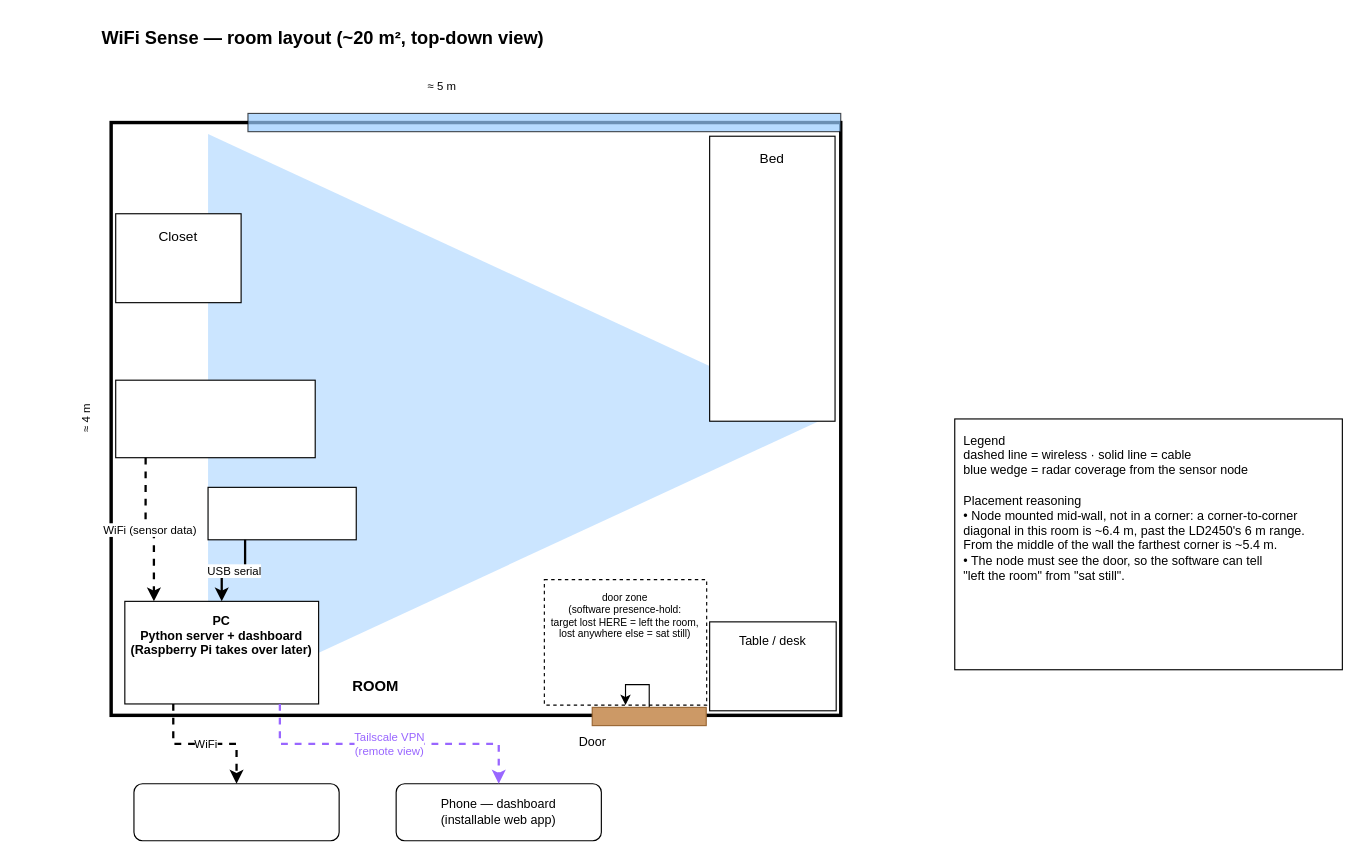
Image size: 1362x861. Some labels were removed from this diagram. Each missing label, with the centre of its shape:
Apartment WiFi (internet only): pixel 236 812
ESP32 — CSI RX (USB serial → PC): pixel 281 513
SENSOR NODE ESP32 + LD2450 + AM312 mounted 1.7 m high: pixel 215 418
Window: pixel 544 122
